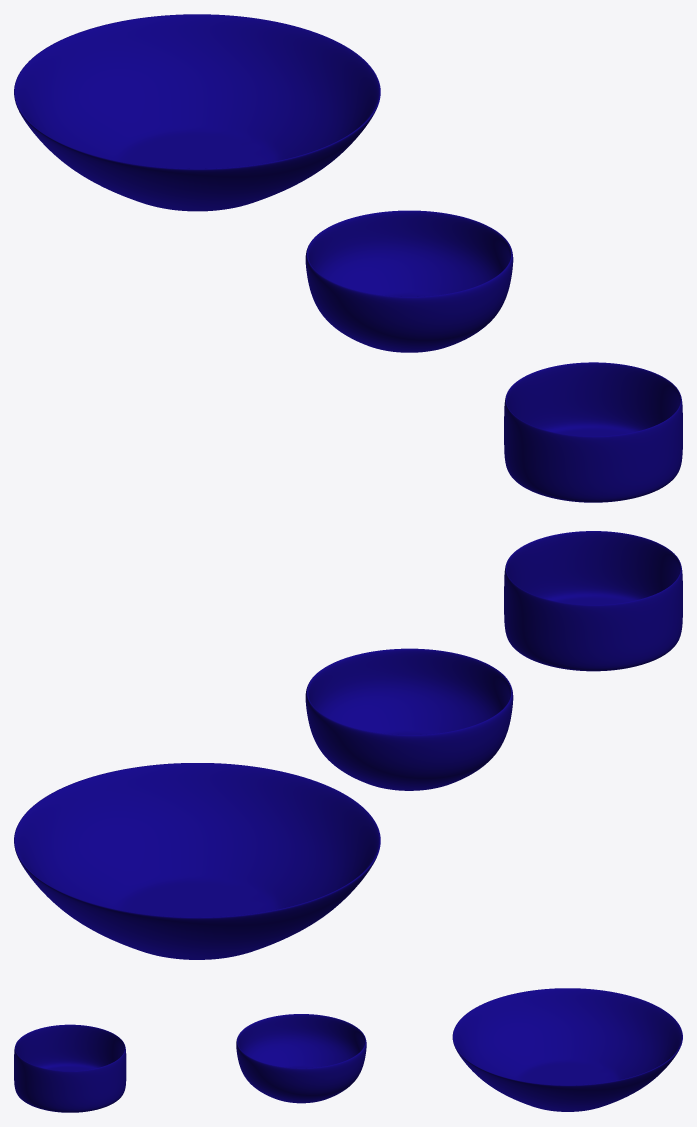
The model's file is ceramic_bowls.fbx.
3 views of the same model, one above another, from view 1: azimuth 30°, elevation 25°; view 2: azimuth 150°, elevation 25°; view 3: azimuth 270°, elevation 25° (orthographic). The views are drawn at different scales.
Parts seen in each view (by area): view 1: serve_bowl, eat_bowl, store_bowl; view 2: serve_bowl, eat_bowl, store_bowl; view 3: serve_bowl, eat_bowl, store_bowl.
Boxes of the visible parts, x1,y1,x2,y2 form: serve_bowl: [14, 14, 380, 211]; eat_bowl: [305, 210, 513, 352]; store_bowl: [504, 362, 682, 502]; serve_bowl: [14, 763, 380, 959]; eat_bowl: [305, 648, 513, 790]; store_bowl: [504, 531, 682, 671]; serve_bowl: [452, 988, 682, 1111]; eat_bowl: [236, 1014, 366, 1103]; store_bowl: [14, 1024, 126, 1112].
Size of the model in its own units: 450 by 117 by 1307.
